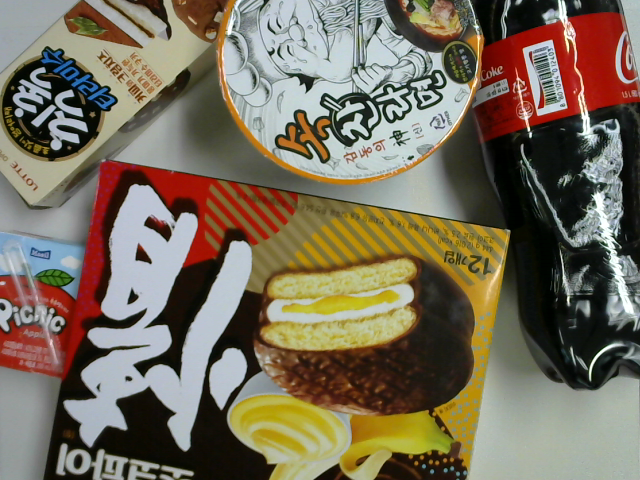Chicchok_Tiramisu: (3, 1, 233, 215)
Choco_Pie_Banana: (43, 157, 513, 479)
Coca_Cola_1.5L: (467, 1, 638, 395)
Hejangchan: (215, 1, 485, 189)
Picnic_Apple: (1, 228, 87, 378)
